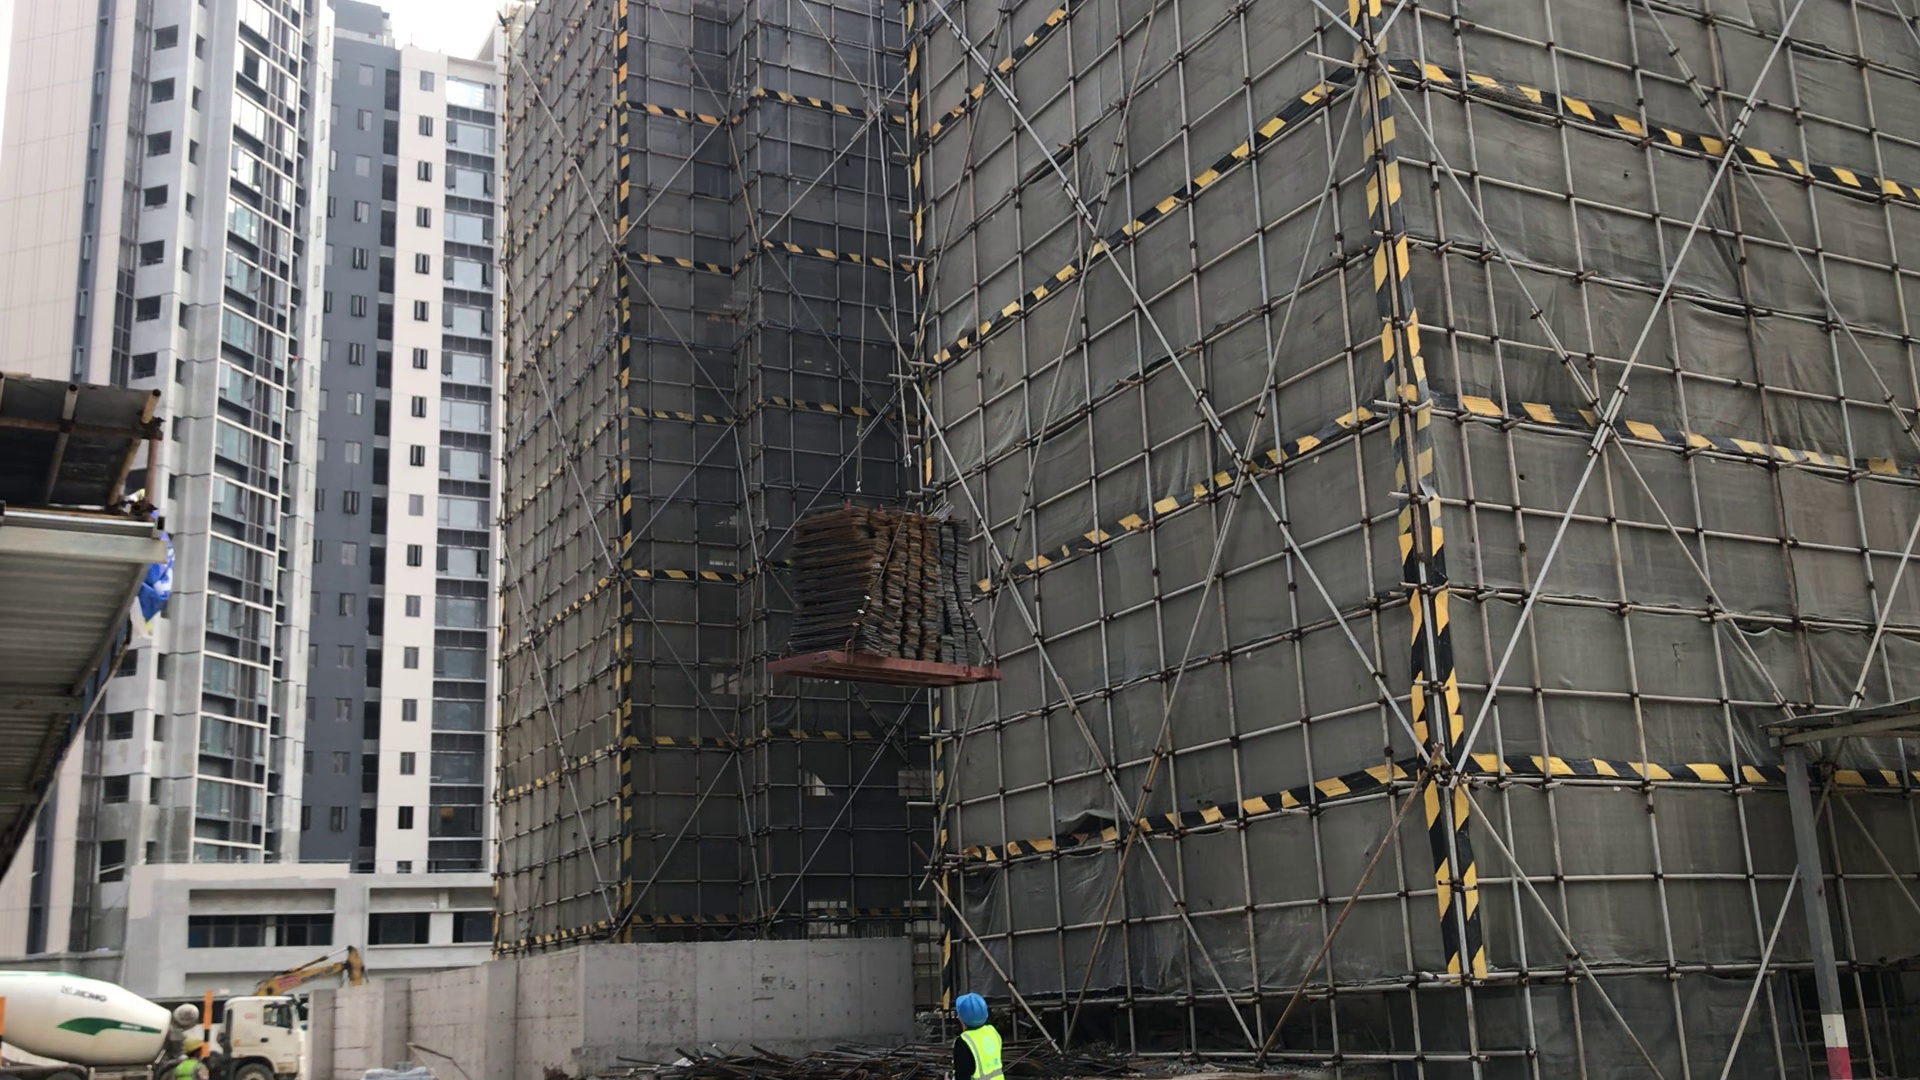helmet: (949, 991, 993, 1025), (181, 1037, 206, 1056)
person: (942, 989, 1007, 1080), (164, 1031, 218, 1080)
vest: (956, 1027, 1002, 1080), (171, 1059, 195, 1080)
